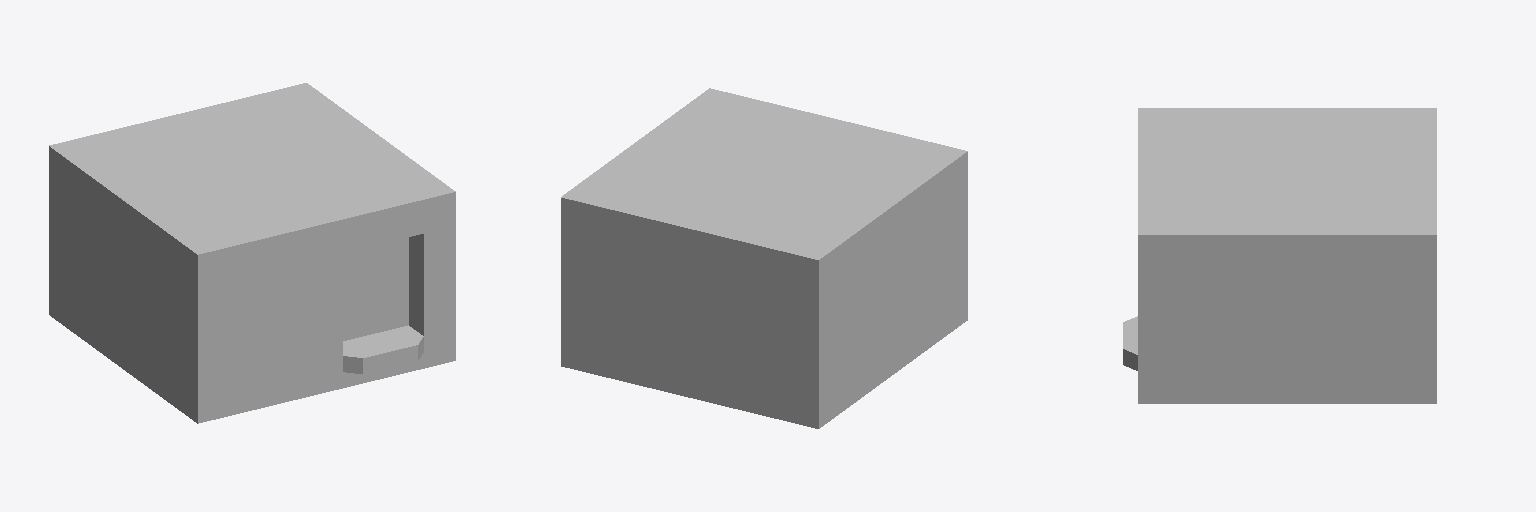
Rendered from building-window-right-sill.obj.
The picture shows the model from 3 angles: view 1: azimuth 30°, elevation 25°; view 2: azimuth 150°, elevation 25°; view 3: azimuth 270°, elevation 25°; orthographic projection.
Visible parts, largest first — view 1: building-window-right-sill; view 2: building-window-right-sill; view 3: building-window-right-sill.
Part boxes in pixels (bbox=[...]): building-window-right-sill: bbox=[49, 83, 455, 423]; building-window-right-sill: bbox=[561, 88, 967, 428]; building-window-right-sill: bbox=[1123, 108, 1436, 403].
Size of the model in its own units: 1 by 0.625 by 1.05.